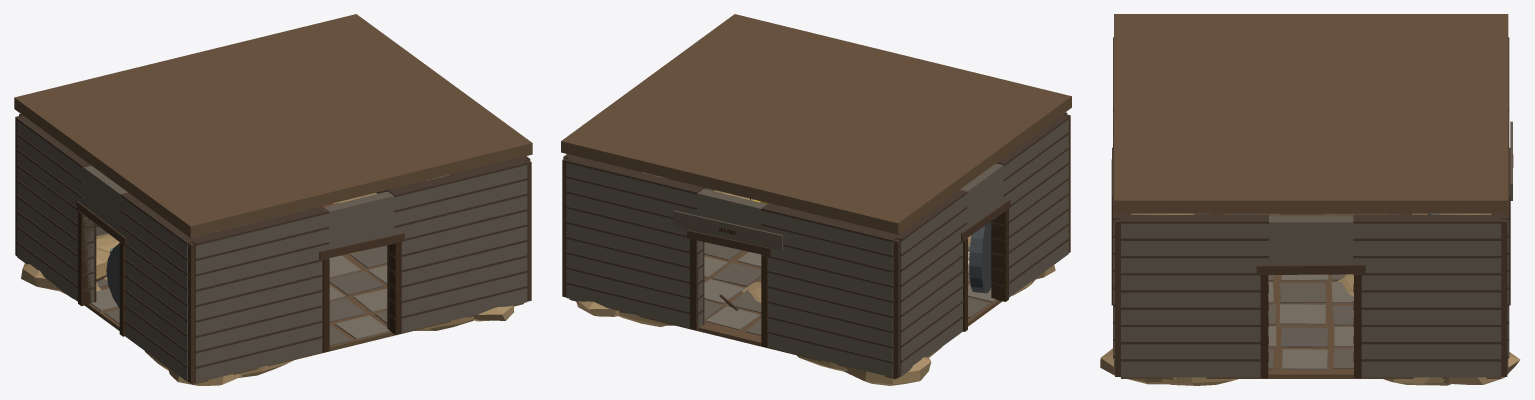
File: TownBldg_vault.glb
3 renders of one model, left to right at view 1: azimuth 30°, elevation 25°; view 2: azimuth 150°, elevation 25°; view 3: azimuth 270°, elevation 25°, orthographic. The views are drawn at different scales.
Parts seen in each view (by area): view 1: TownBldg_vault.001; view 2: TownBldg_vault.001; view 3: TownBldg_vault.001.
Part boxes in pixels (bbox=[...]): TownBldg_vault.001: bbox=[14, 14, 532, 385]; TownBldg_vault.001: bbox=[561, 14, 1071, 385]; TownBldg_vault.001: bbox=[1100, 14, 1520, 385].
Bounding box in the file's own units: 9.57 × 4.68 × 8.84.
